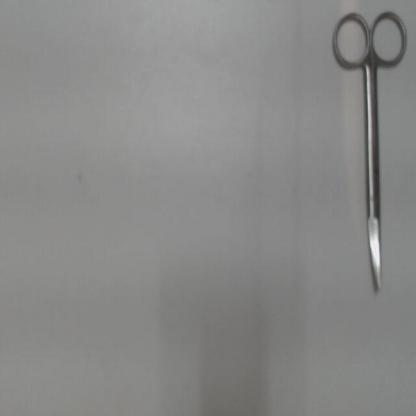Curved Mayo Scissors: (327, 6, 409, 300)
